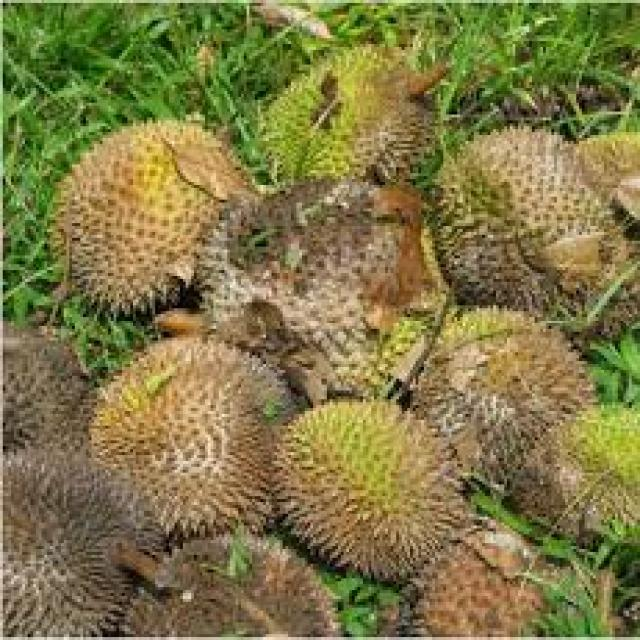defective: (207, 176, 419, 360)
